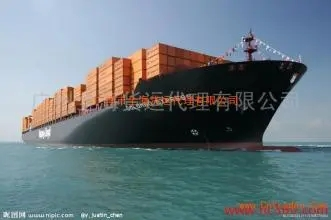Cargoship: (17, 25, 309, 146)
